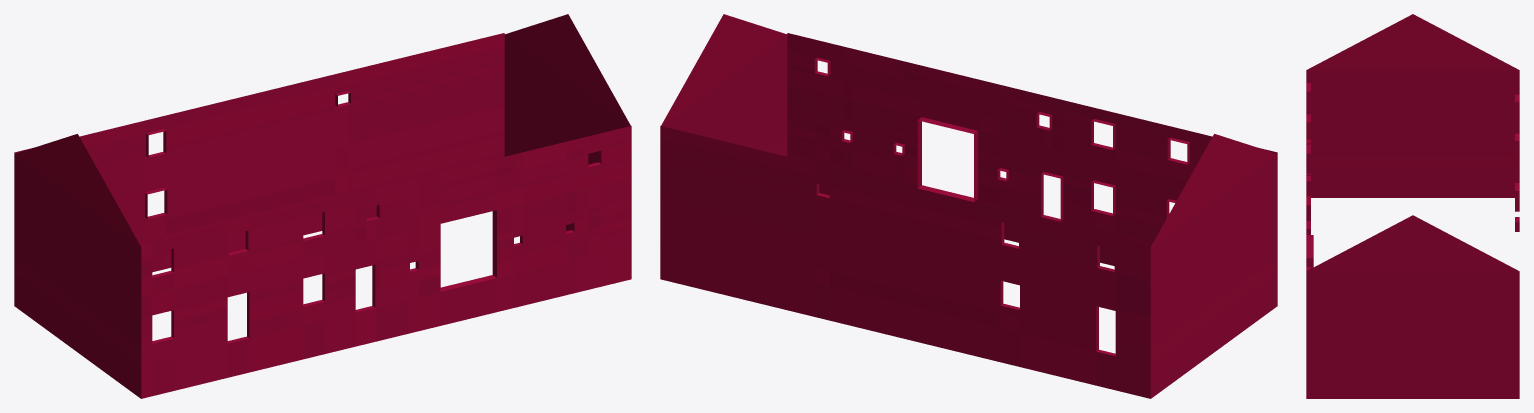
Rendered from SM_Bld_125_Masonry.glb.
3 views of the same model, side by side, from view 1: azimuth 30°, elevation 25°; view 2: azimuth 150°, elevation 25°; view 3: azimuth 270°, elevation 25° (orthographic). The views are drawn at different scales.
Parts seen in each view (by area): view 1: SM_Bld_125_Masonry; view 2: SM_Bld_125_Masonry; view 3: SM_Bld_125_Masonry.
Boxes of the visible parts, x1,y1,x2,y2 form: SM_Bld_125_Masonry: (14, 14, 631, 398); SM_Bld_125_Masonry: (660, 14, 1277, 398); SM_Bld_125_Masonry: (1306, 14, 1519, 398).
Bounding box in the file's own units: 22.64 × 9.65 × 10.15.
